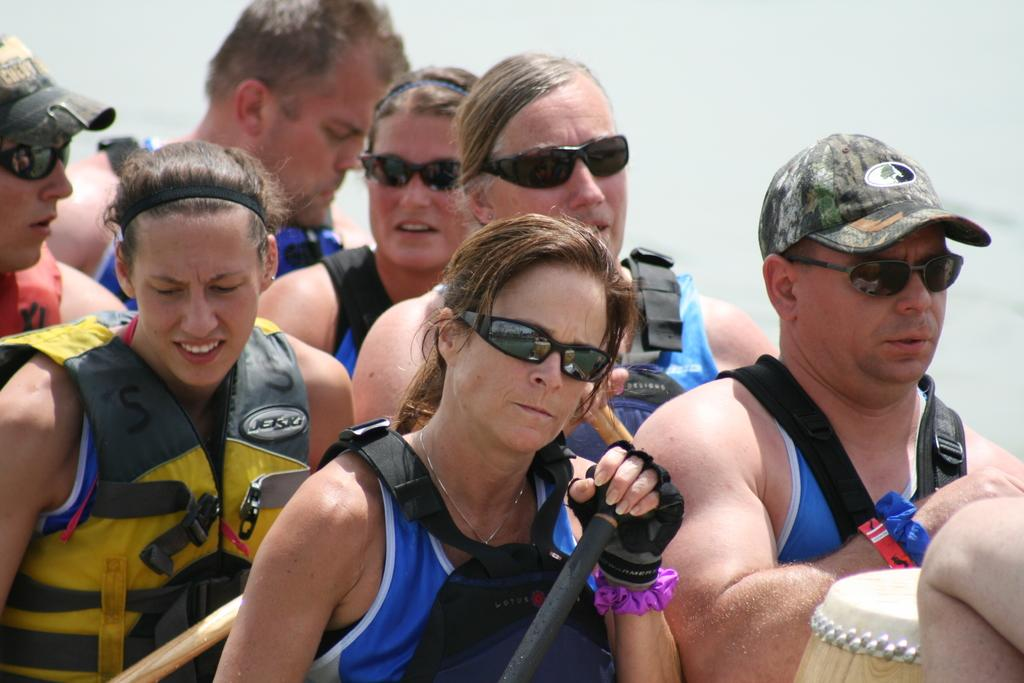Hat: (754, 130, 990, 256)
